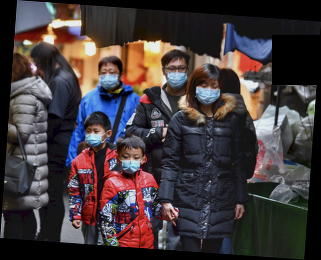with_mask: (194, 80, 222, 107), (165, 63, 188, 90), (98, 66, 121, 93), (120, 150, 143, 175), (83, 126, 103, 147)
